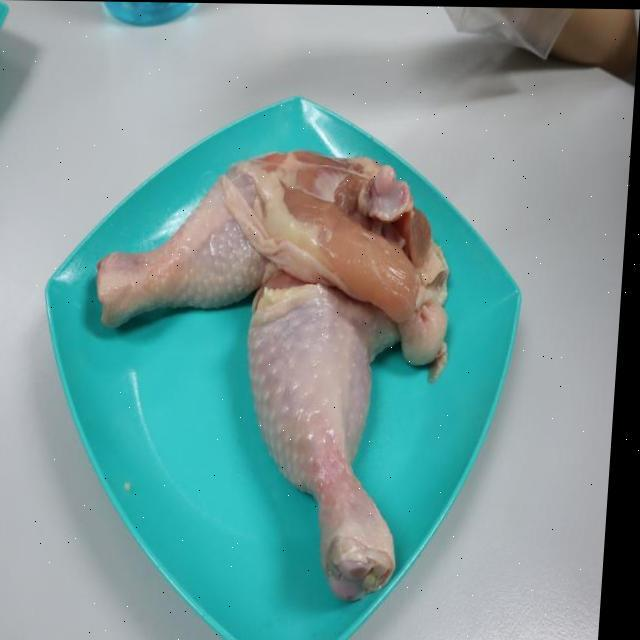quater: (55, 131, 478, 349), (228, 260, 424, 572)
